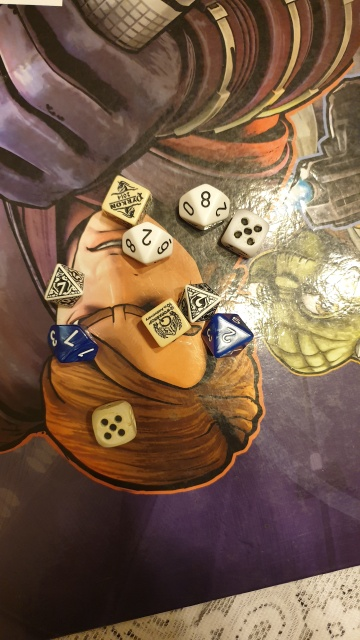d10-2: (198, 308, 256, 363), (114, 219, 179, 268)
d10-7: (43, 319, 103, 367)
d10-8: (175, 180, 231, 231)
d6-5: (90, 400, 136, 447), (222, 210, 269, 255)
d6p-1: (101, 175, 150, 223)
d6p-6: (138, 296, 192, 350)
d8p-2: (178, 279, 223, 327)
d8p-7: (40, 262, 90, 313)
